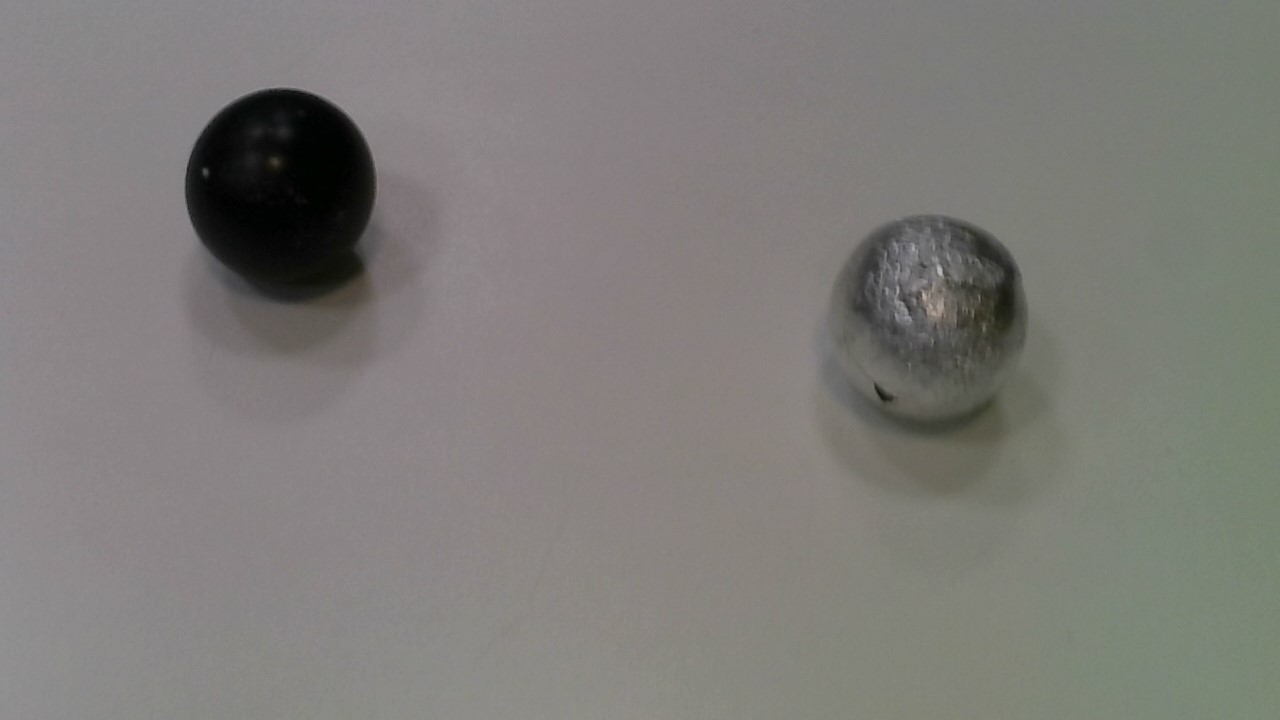black_ball: (176, 80, 381, 291)
silver_ball: (824, 208, 1040, 429)
